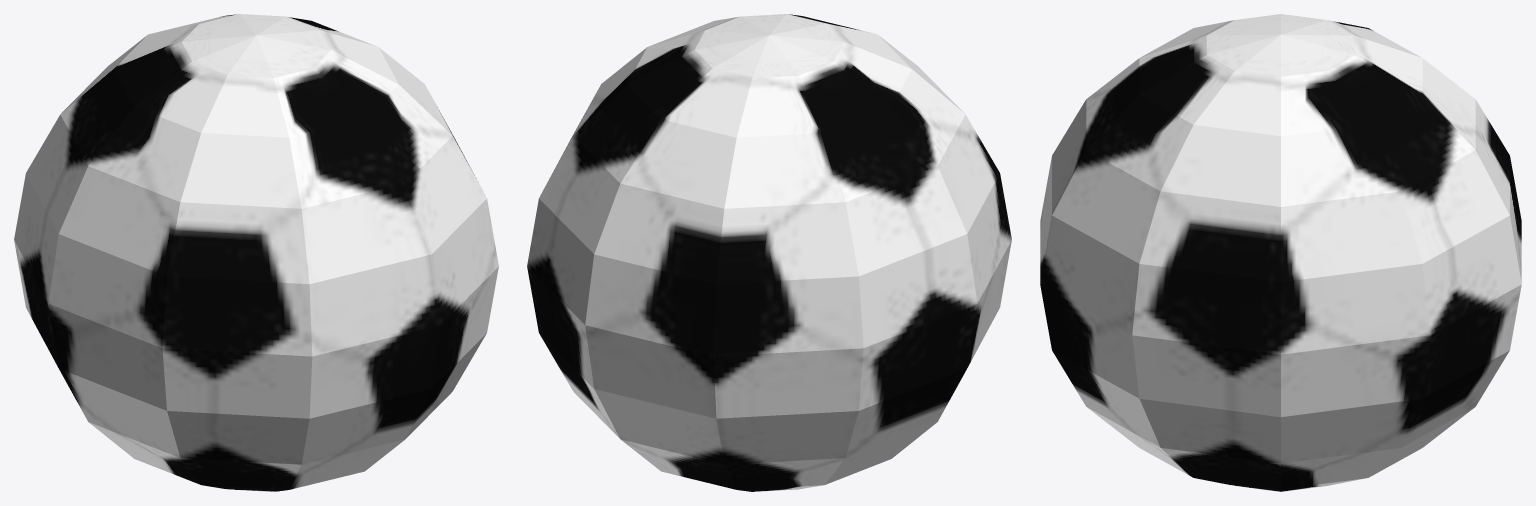
Rendered from equipment_0002_football.glb.
3 renders of one model, left to right at view 1: azimuth 30°, elevation 25°; view 2: azimuth 150°, elevation 25°; view 3: azimuth 270°, elevation 25°, orthographic.
Visible parts, largest first — view 1: football; view 2: football; view 3: football.
Part boxes in pixels (x1=…): football: x1=14, y1=14, x2=498, y2=491; football: x1=527, y1=14, x2=1011, y2=491; football: x1=1040, y1=14, x2=1521, y2=491.
Size of the model in its own units: 24.88 by 24.88 by 24.88.
1 material, 1 textured.
